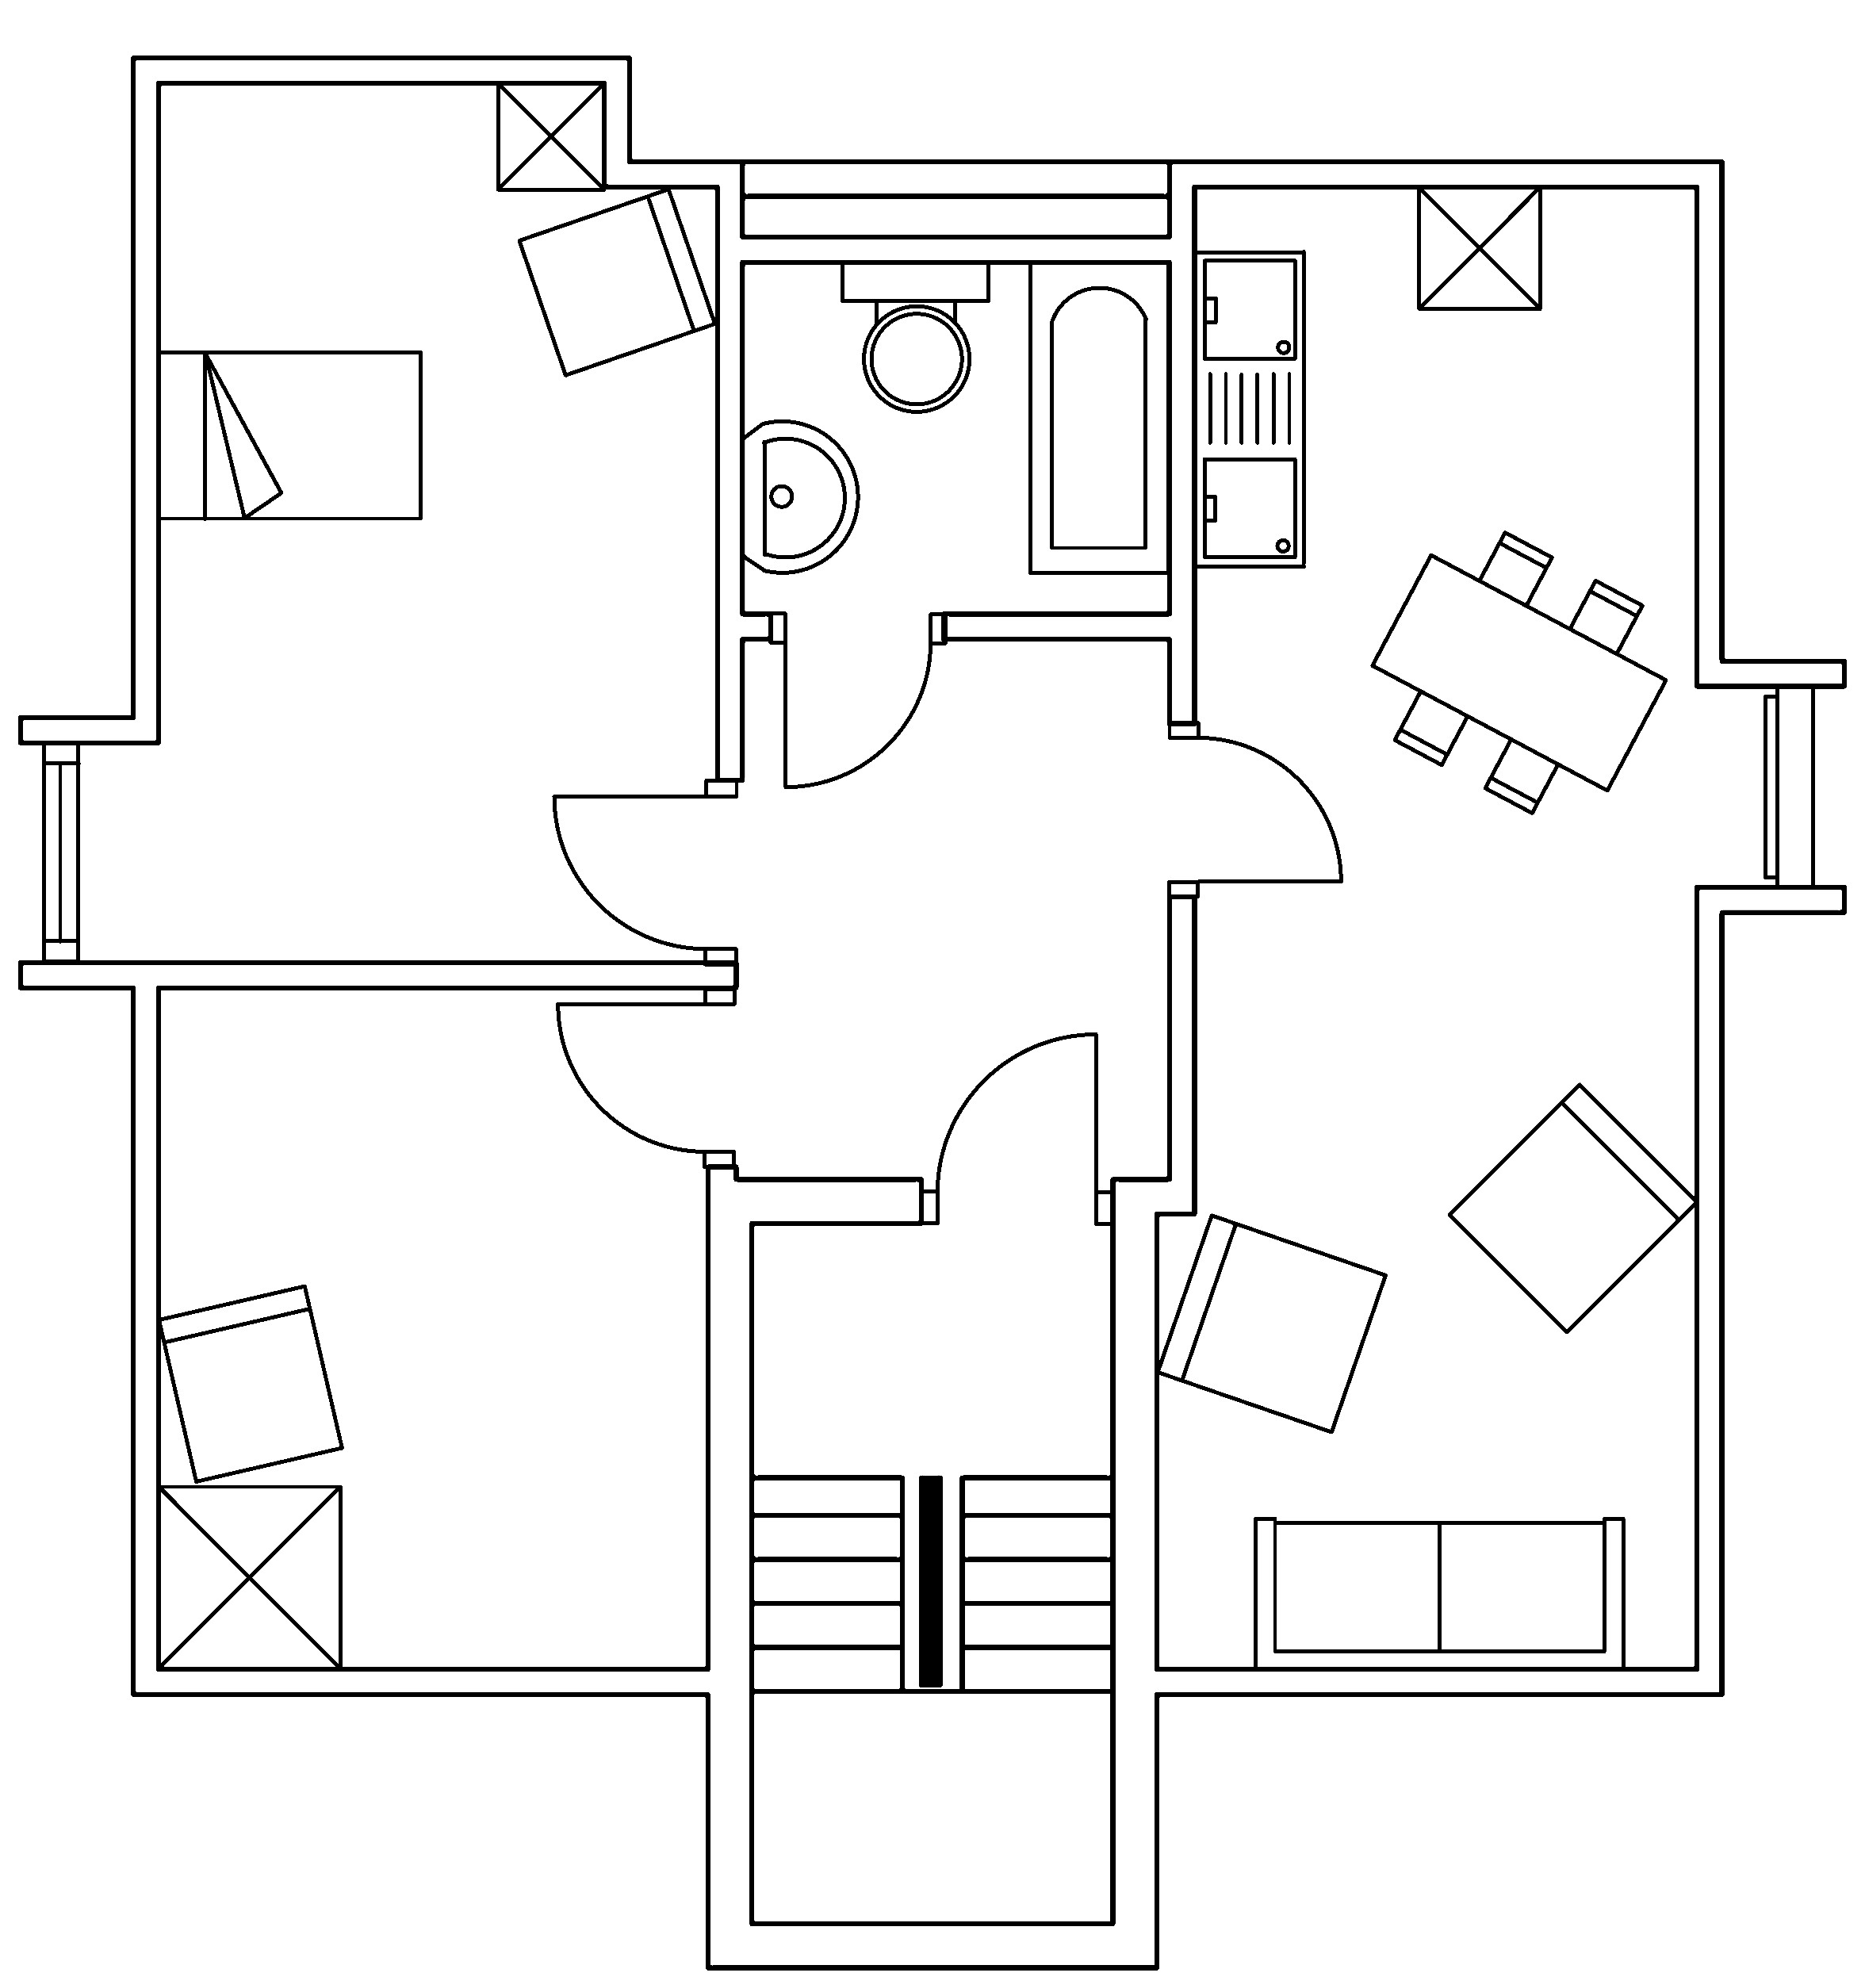bed: (154, 349, 424, 522)
coffee_table: (154, 1481, 342, 1671), (1416, 182, 1542, 310), (494, 79, 606, 191)
dining_table: (1369, 529, 1669, 815)
large_sink: (840, 258, 990, 412)
large_sofa: (1252, 1515, 1625, 1672)
small_sink: (740, 419, 859, 573)
small_sofa: (1446, 1082, 1698, 1334), (1153, 1211, 1388, 1434), (515, 186, 717, 377), (156, 1282, 344, 1483)
tub: (1027, 258, 1171, 575)
twin_sink: (1192, 247, 1308, 570)
